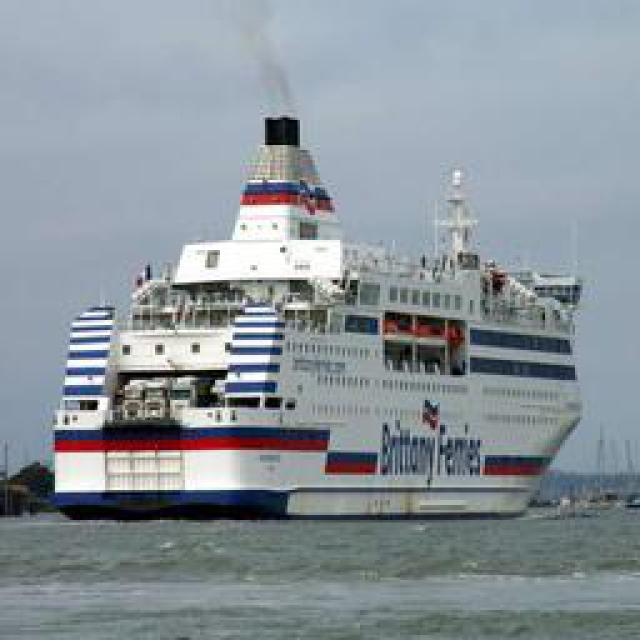Ship: (45, 89, 590, 522)
